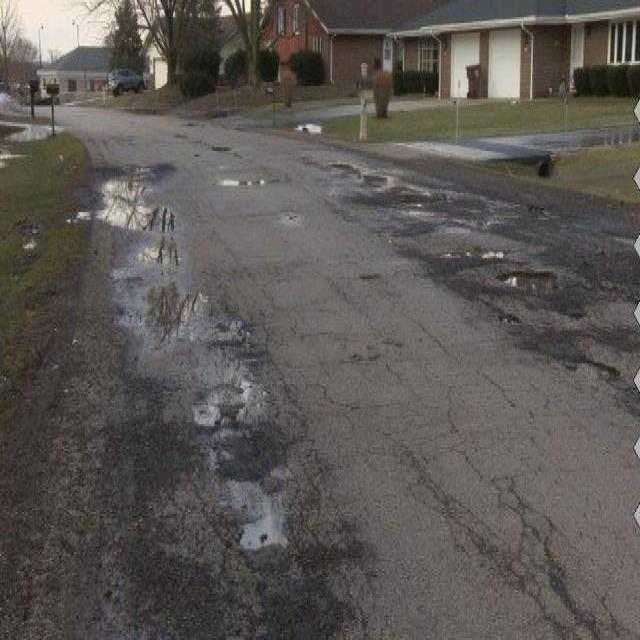jalan retak: (478, 445, 612, 640), (260, 344, 375, 544), (408, 304, 556, 442), (394, 408, 495, 570), (398, 302, 519, 406), (234, 250, 343, 356), (324, 303, 442, 388), (83, 118, 148, 159), (525, 195, 571, 227), (170, 115, 211, 146)
lubang: (106, 230, 268, 358), (175, 338, 295, 459), (198, 459, 329, 559), (64, 155, 186, 230), (436, 164, 531, 242), (214, 164, 290, 195), (489, 264, 558, 298), (189, 128, 248, 165), (396, 188, 470, 216), (440, 244, 510, 270), (557, 354, 623, 380), (297, 144, 332, 175), (357, 260, 386, 291), (499, 303, 524, 336), (333, 156, 360, 178), (360, 170, 390, 189), (282, 201, 300, 231), (569, 304, 587, 326)
